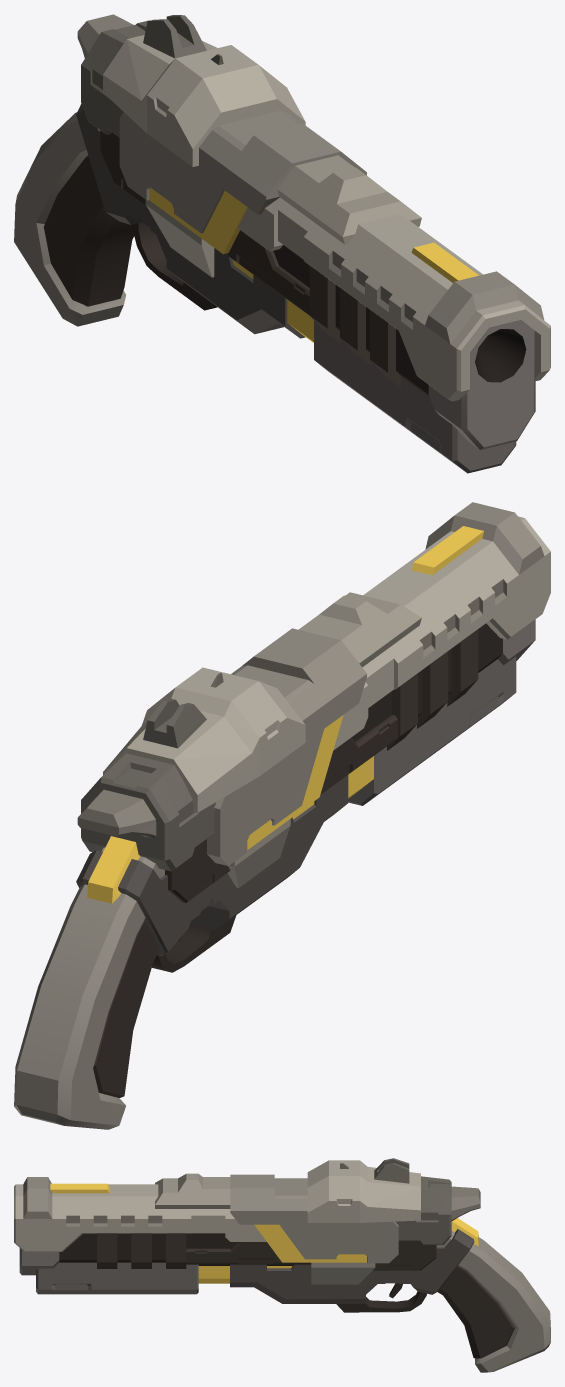
File: WEAPON_SG_05_G00.fbx
3 renders of one model, top to bottom at view 1: azimuth 30°, elevation 25°; view 2: azimuth 150°, elevation 25°; view 3: azimuth 270°, elevation 25°, orthographic. The views are drawn at different scales.
Visible parts, largest first — view 1: WEAPON_SG_05_G05; view 2: WEAPON_SG_05_G05; view 3: WEAPON_SG_05_G05.
Part boxes in pixels (box(x1,y1,x2,y2)): WEAPON_SG_05_G05: box(14, 14, 550, 473); WEAPON_SG_05_G05: box(14, 502, 550, 1129); WEAPON_SG_05_G05: box(14, 1158, 550, 1372).
Bounding box in the file's own units: 1.23 × 3.76 × 8.85.
